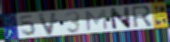3: (64, 10, 84, 34)
5: (18, 14, 37, 37)
M: (84, 9, 109, 32)
N: (109, 6, 133, 31)
R: (130, 4, 155, 29)
V: (36, 11, 60, 37)
